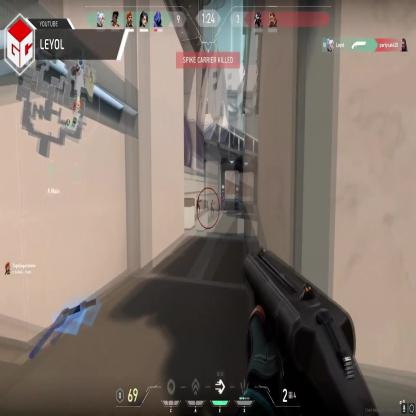enemy: (196, 195, 200, 215), (210, 199, 214, 219)
enemy_head: (198, 197, 200, 200), (212, 200, 213, 203)
